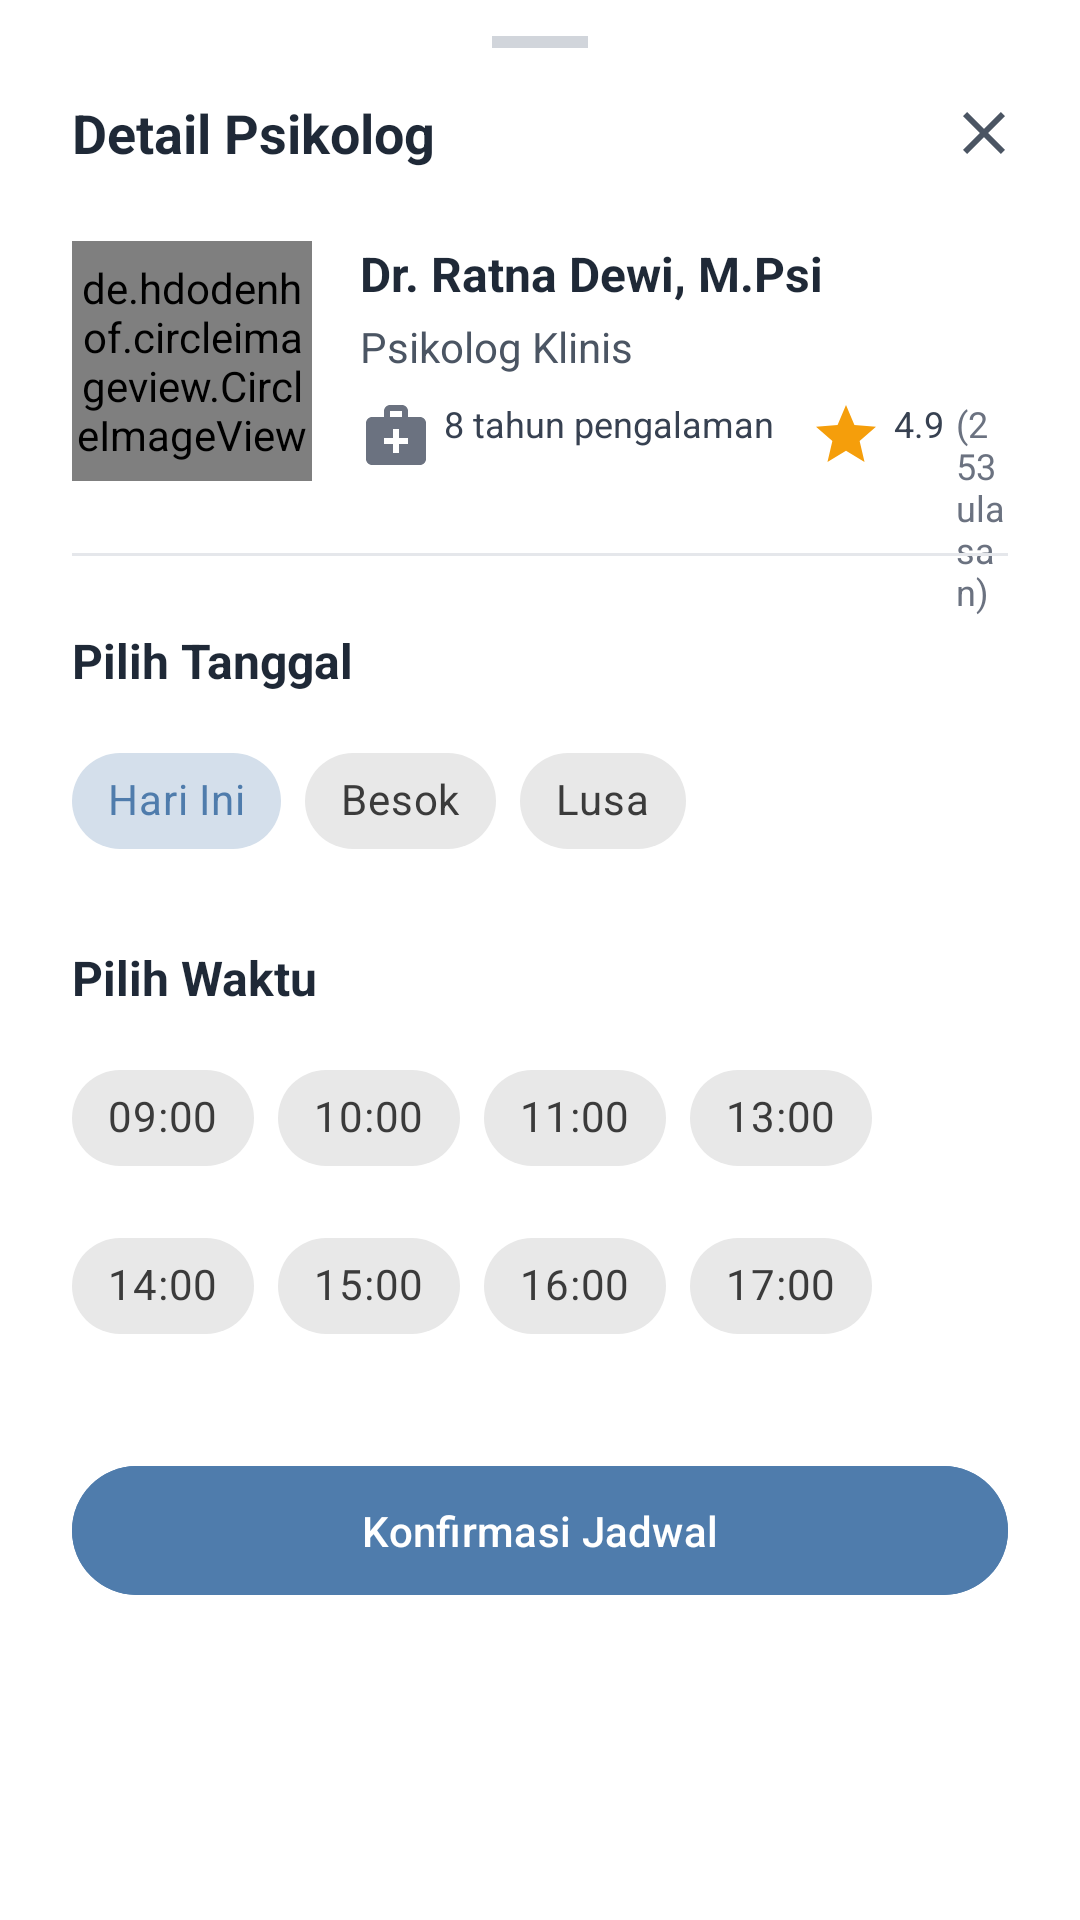

Icons on this 1080 × 1920 Android screen, each with the point to tap as [x,y]:
close: [984,133]
